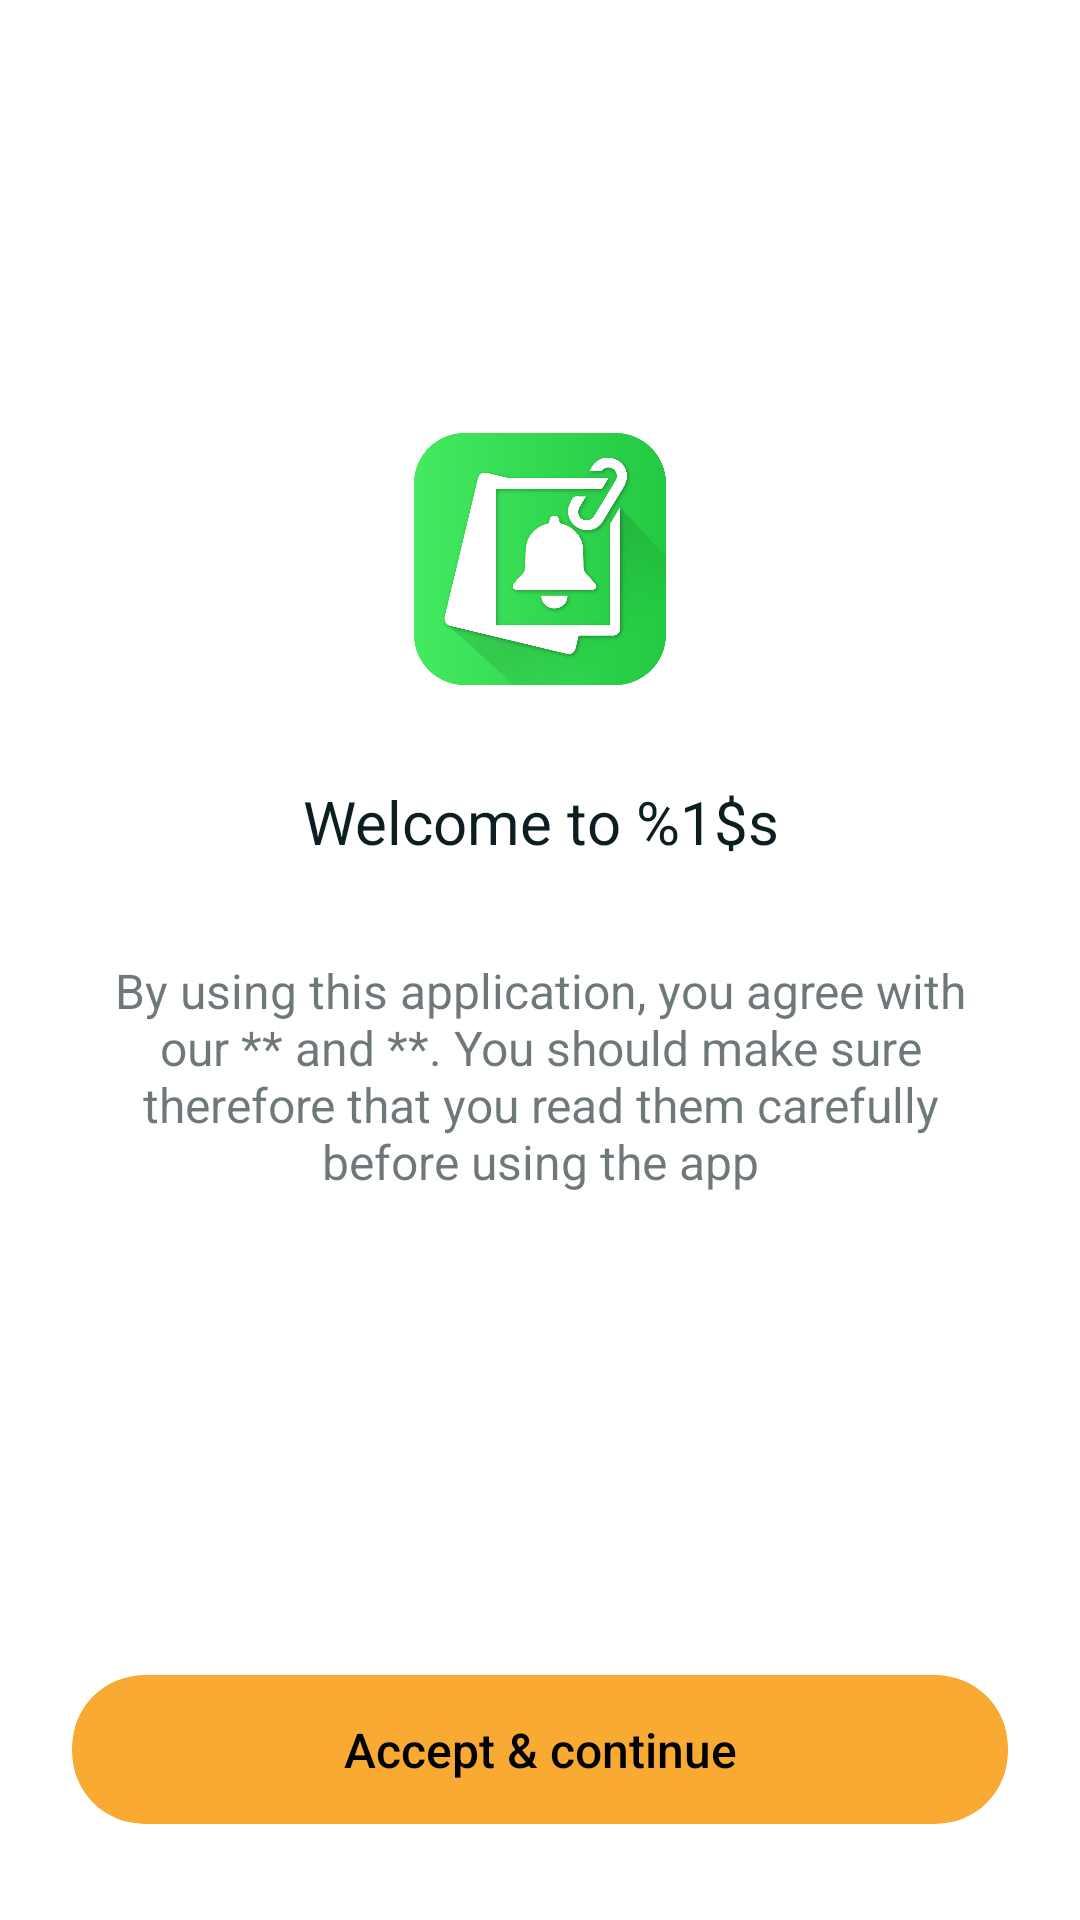

Locate icon controls on the screen. Image size 1080px×1920px, boxes as [x1,y1,x2,y2].
app: [414,433,666,685]
